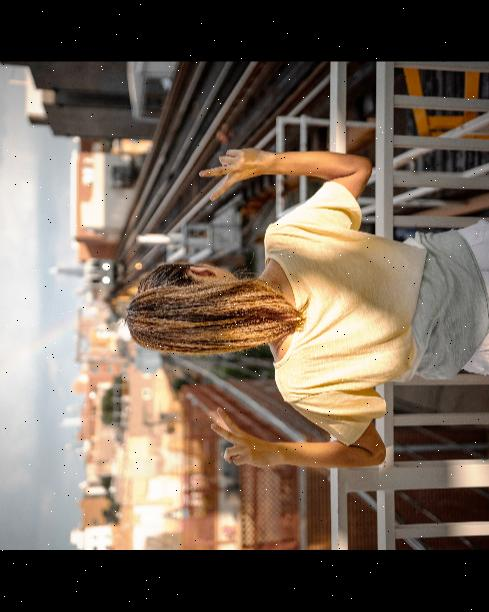Scissors: (206, 402, 276, 472), (194, 144, 274, 204)
